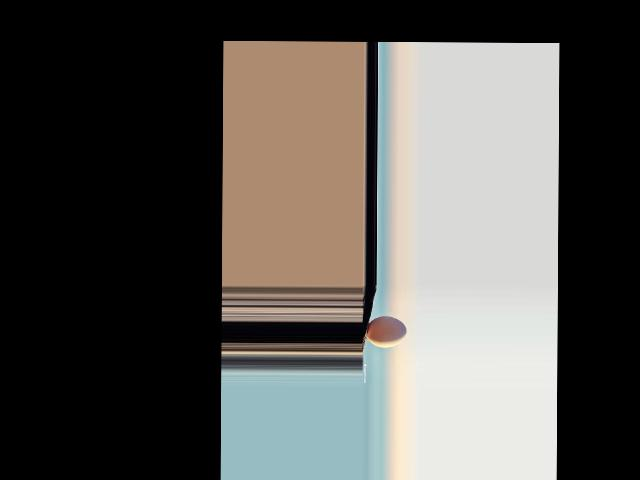egg: (366, 316, 406, 348)
